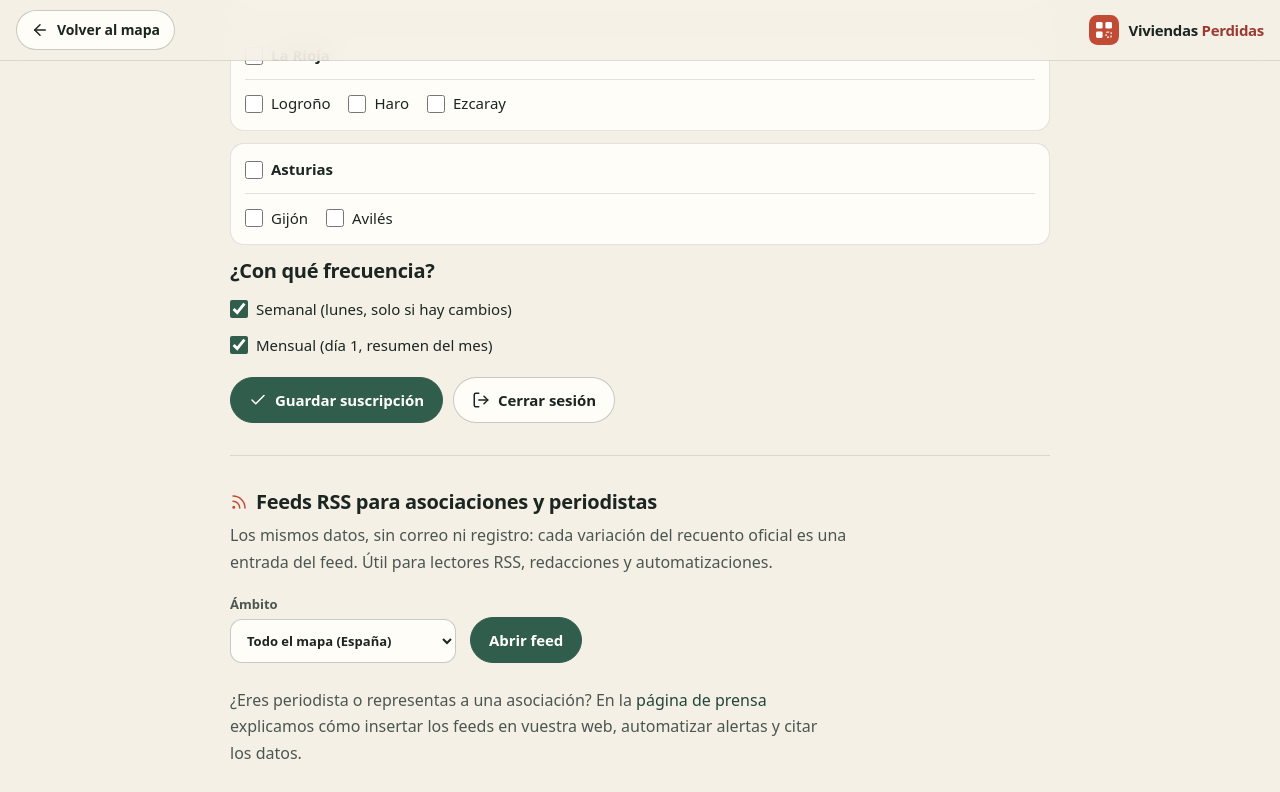
NewsletterPage › cierra la sesión y vuelve a la puerta de entrada
(page scrolled)
Click the button "Cerrar sesión" at (534, 400), box [453, 377, 615, 423]
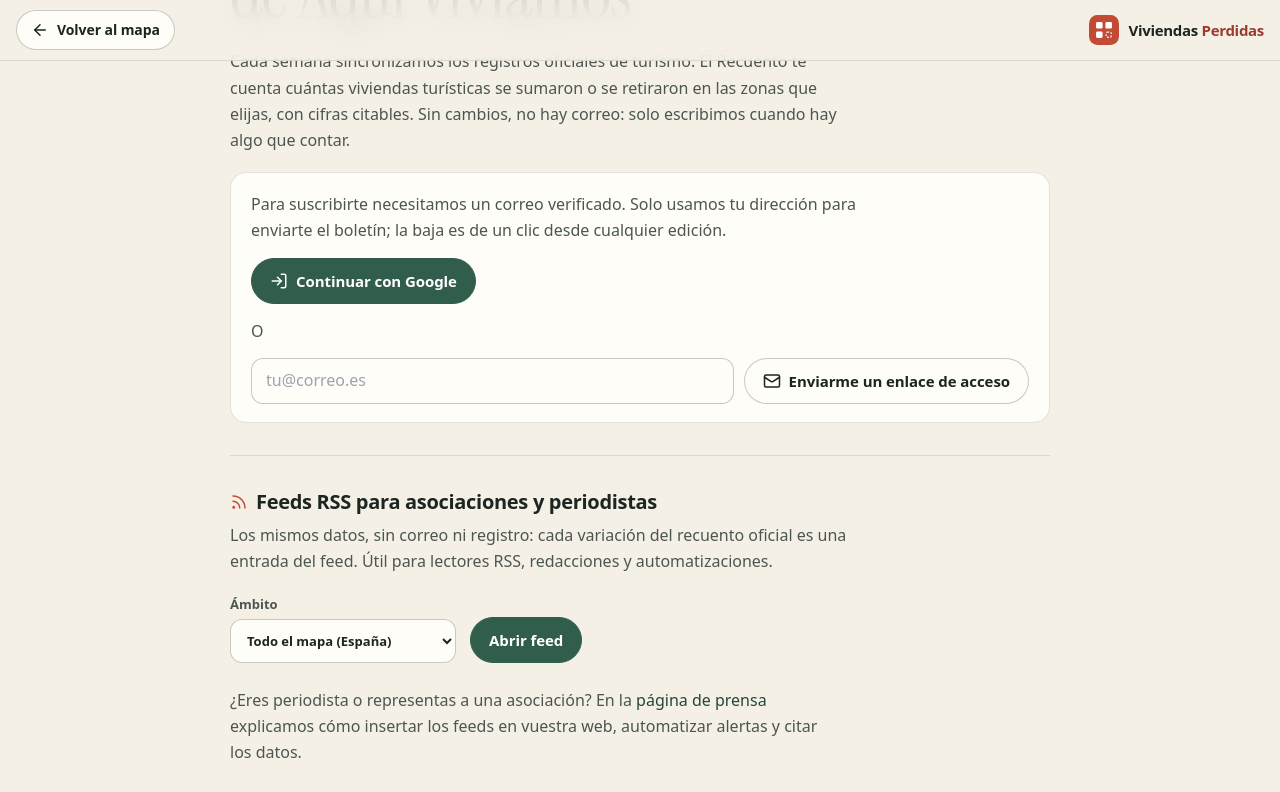
Check: the button "Continuar con Google" is shown, box [251, 258, 476, 304]
